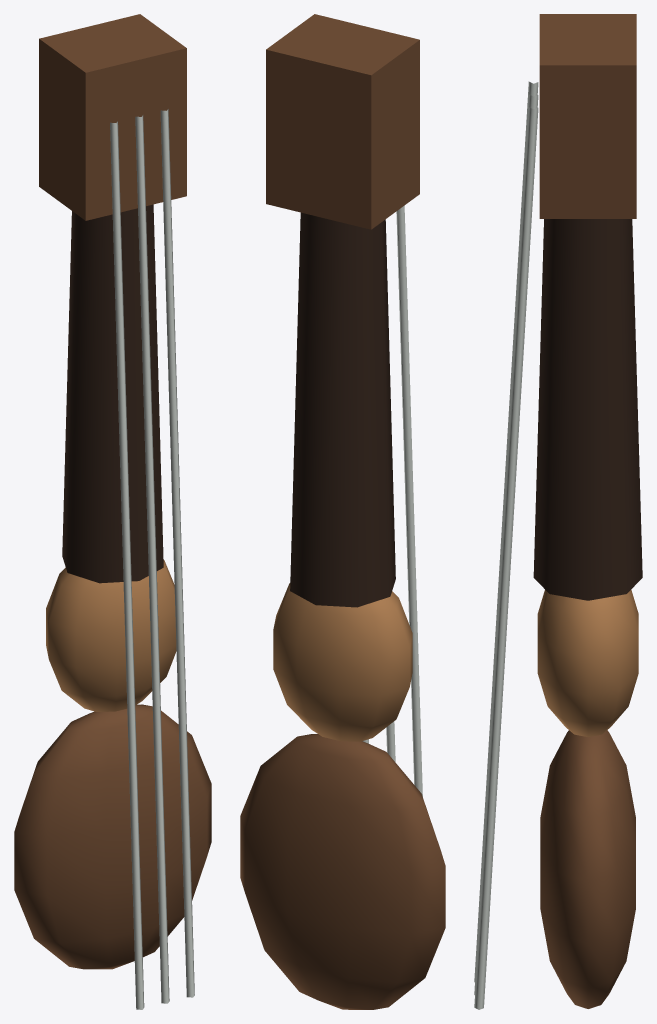
Rendered from lute.glb.
3 renders of one model, left to right at view 1: azimuth 30°, elevation 25°; view 2: azimuth 150°, elevation 25°; view 3: azimuth 270°, elevation 25°, orthographic. The views are drawn at different scales.
Parts seen in each view (by area): view 1: lute-body, lute-neck, lute-pegbox, lute-string (×3), lute-waist; view 2: lute-body, lute-neck, lute-pegbox, lute-waist, lute-string; view 3: lute-neck, lute-body, lute-pegbox, lute-waist, lute-string (×3).
Part boxes in pixels (left/top/right/bottom): lute-body: left=14, top=704, right=211, bottom=969; lute-neck: left=62, top=204, right=163, bottom=583; lute-pegbox: left=39, top=14, right=186, bottom=220; lute-string (×3): left=110, top=109, right=194, bottom=1009; lute-waist: left=46, top=560, right=176, bottom=711; lute-body: left=240, top=734, right=445, bottom=1009; lute-neck: left=290, top=212, right=395, bottom=607; lute-pegbox: left=266, top=14, right=419, bottom=229; lute-waist: left=273, top=583, right=412, bottom=741; lute-string: left=396, top=205, right=428, bottom=971; lute-neck: left=533, top=219, right=642, bottom=600; lute-body: left=540, top=730, right=635, bottom=1008; lute-pegbox: left=539, top=14, right=636, bottom=218; lute-waist: left=537, top=590, right=638, bottom=737; lute-string (×3): left=474, top=81, right=538, bottom=1009.
Bounding box in the file's own units: 0.195 × 0.875 × 0.139.
